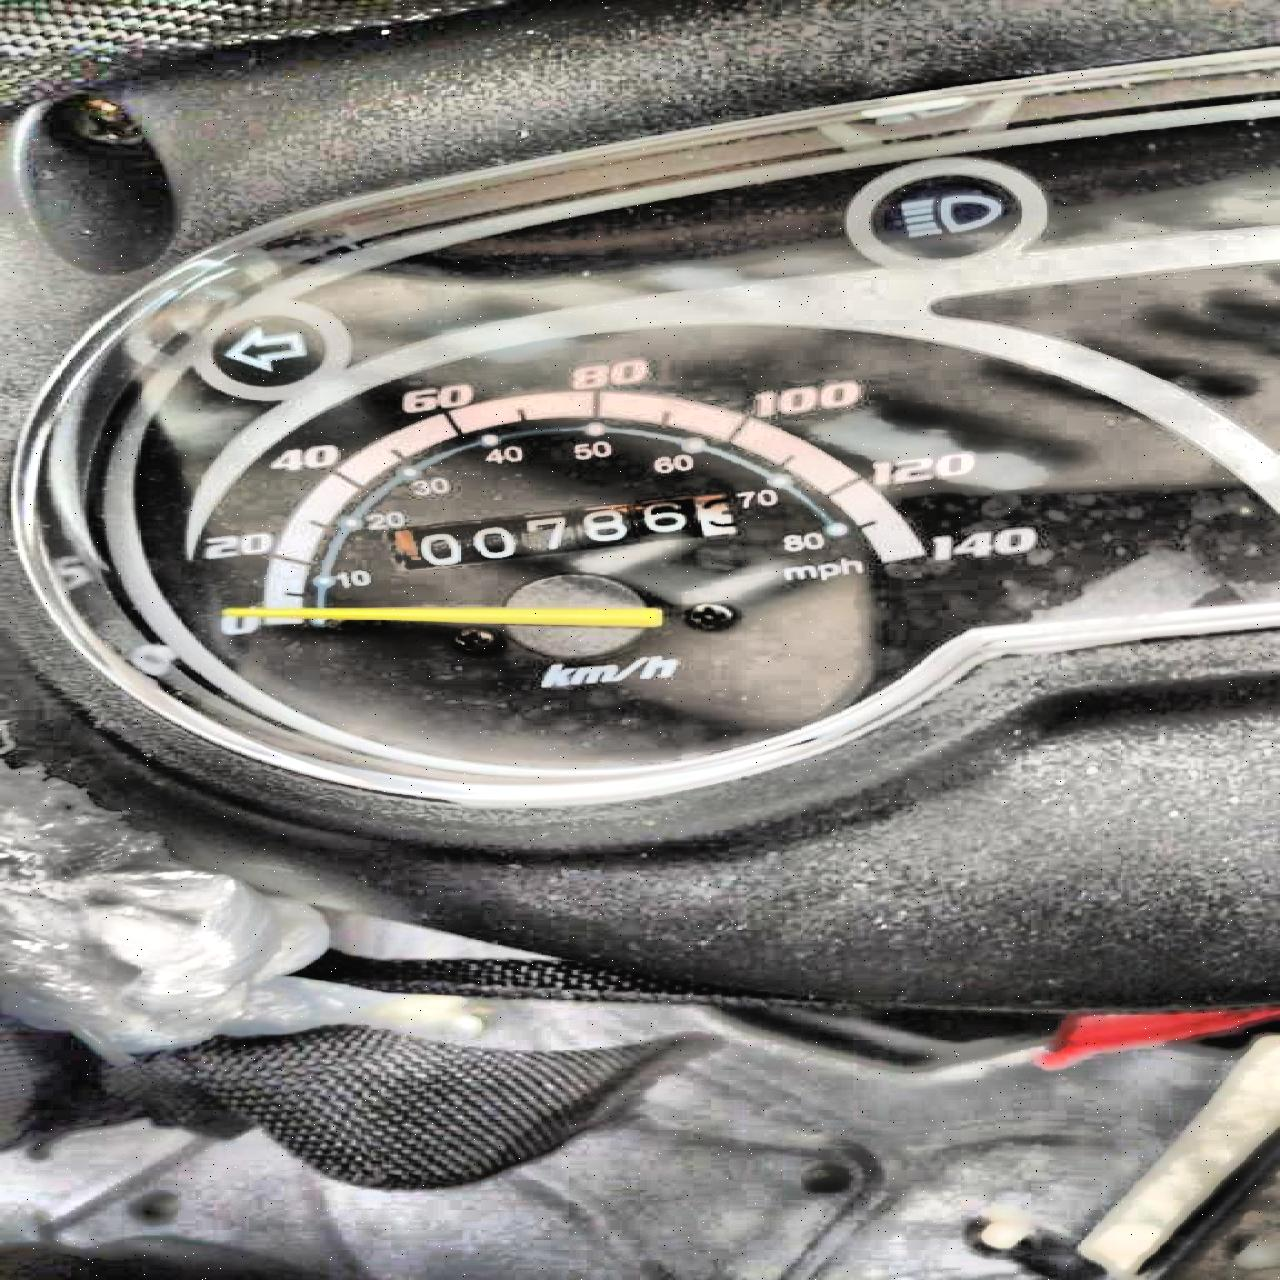0: (416, 531, 461, 565), (471, 525, 513, 559), (382, 510, 404, 526)
3: (700, 496, 740, 526)
6: (640, 502, 685, 532)
7: (523, 515, 565, 550)
8: (580, 509, 627, 542)
odometer: (377, 491, 744, 572)
